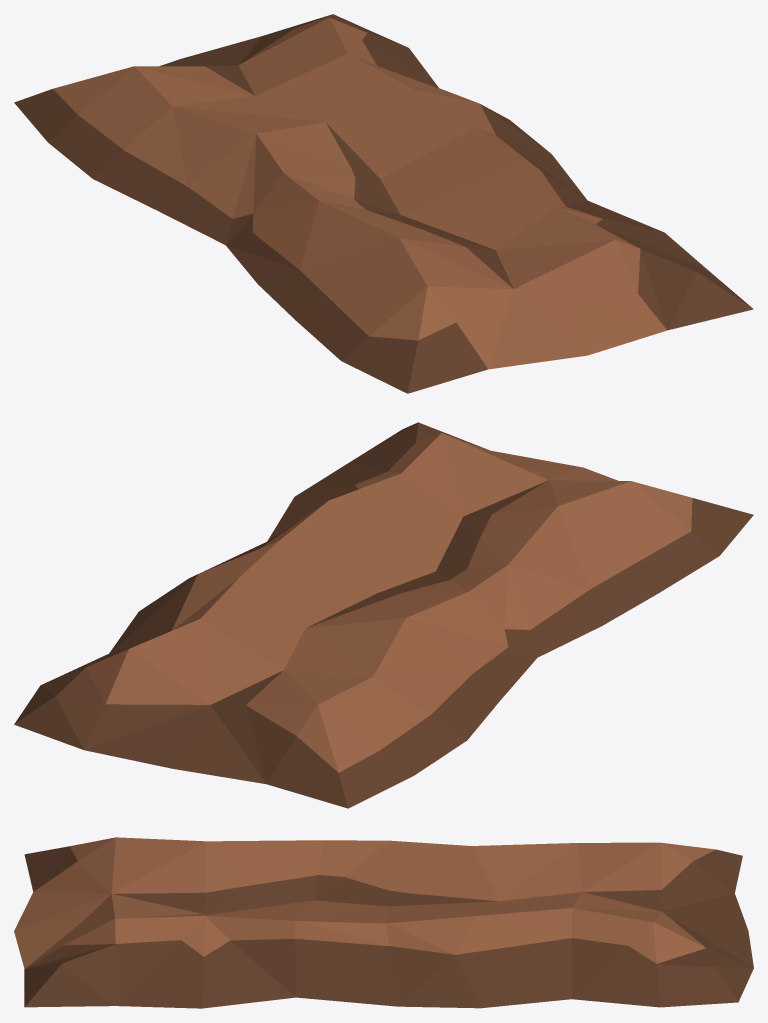
The model's file is Road_Mud_1.fbx.
The picture shows the model from 3 angles, top to bottom: view 1: azimuth 30°, elevation 25°; view 2: azimuth 150°, elevation 25°; view 3: azimuth 270°, elevation 25°; orthographic projection. The views are drawn at different scales.
Parts seen in each view (by area): view 1: Road_Mud_1; view 2: Road_Mud_1; view 3: Road_Mud_1.
Boxes of the visible parts, bbox=[...] form: Road_Mud_1: bbox=[14, 14, 753, 393]; Road_Mud_1: bbox=[14, 422, 753, 808]; Road_Mud_1: bbox=[14, 837, 753, 1008].
Bounding box in the file's own units: 2.14 × 0.3287 × 4.09.
